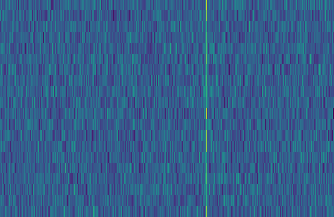signal: (202, 0, 211, 217)
